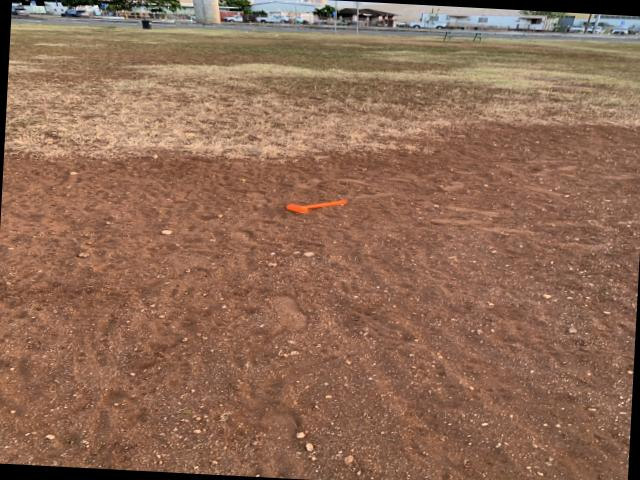hammer: (288, 196, 352, 216)
